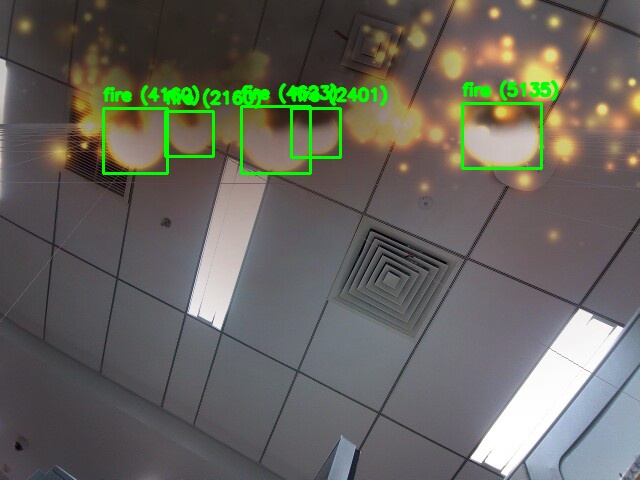fire: (462, 103, 541, 168), (241, 106, 310, 173), (103, 108, 167, 173), (291, 108, 340, 157), (165, 111, 213, 156)
